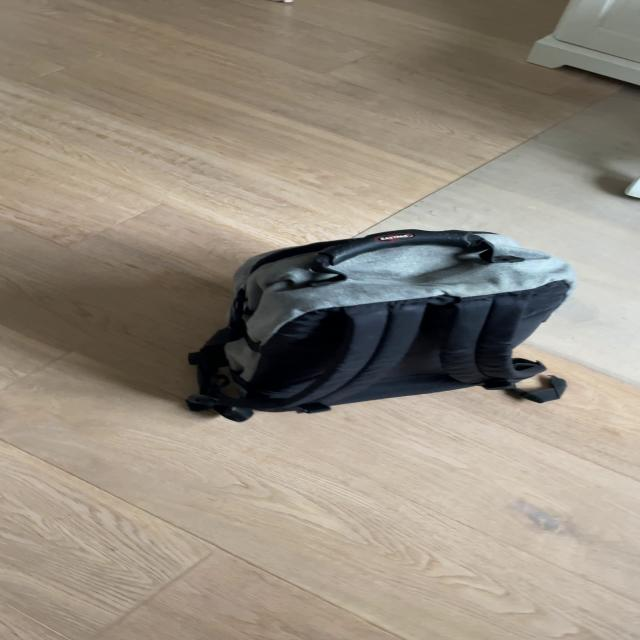backpack: (176, 218, 592, 420)
